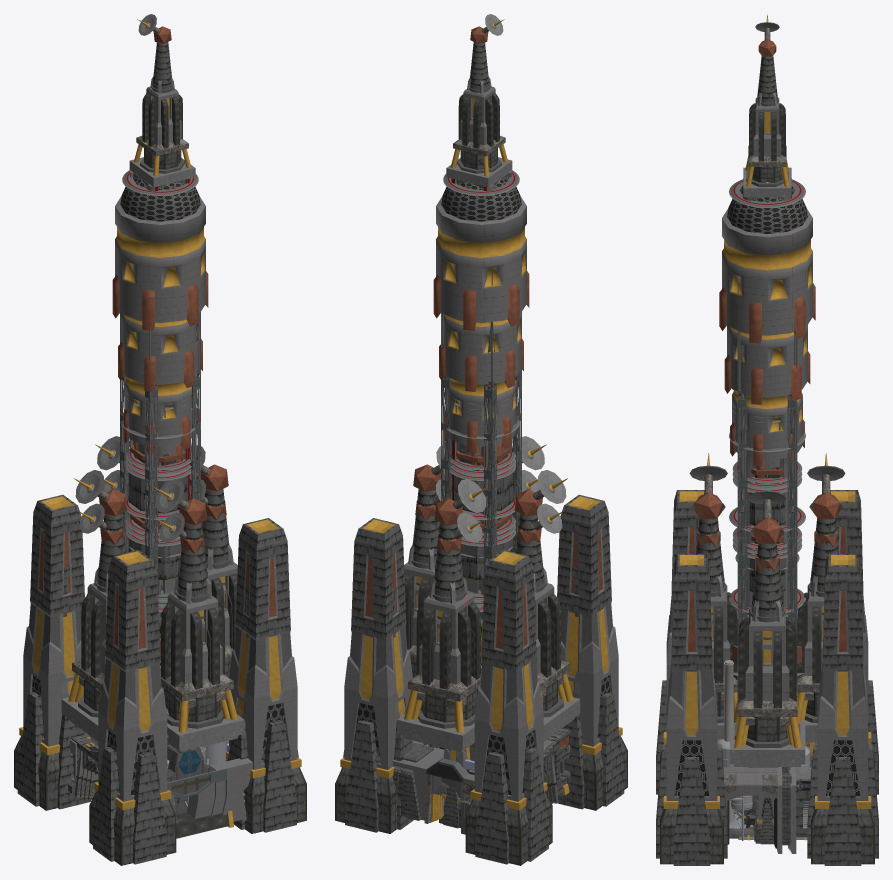
Rendered from kit.glb.
3 views of the same model, side by side, from view 1: azimuth 30°, elevation 25°; view 2: azimuth 150°, elevation 25°; view 3: azimuth 270°, elevation 25° (orthographic).
Visible parts, largest first — view 1: pylon.56, pylon.57, pylon.55, tower.73, tower_dome.74, fortress.53, tower.72, tower.131, tower_dome.51, tower.70, tower_dome.29, tower.50 (+13 smaller); view 2: pylon.55, pylon.54, pylon.56, tower.71, tower_dome.74, tower.72, tower.131, fortress.53, tower_dome.51, tower.70, tower_dome.29, tower.48 (+14 smaller); view 3: pylon.54, pylon.57, tower.70, tower_dome.74, tower.71, tower.131, tower_dome.51, tower.73, fortress.53, tower_dome.29, pylon.55, pylon.56 (+14 smaller).
Boxes of the visible parts, x1,y1,x2,y2 form: pylon.56: (89,549,176,865); pylon.57: (226,518,306,833); pylon.55: (14,494,94,810); tower.73: (154,479,244,749); tower_dome.74: (112,177,208,330); fortress.53: (68,708,264,838); tower.72: (61,470,127,739); tower.131: (129,14,195,187); tower_dome.51: (118,312,202,391); tower.70: (196,445,237,677); tower_dome.29: (123,377,197,452); tower.50: (158,512,238,751); pylon.55: (465,549,552,865); pylon.54: (335,518,413,833); pylon.56: (557,494,627,810); tower.71: (397,479,487,749); tower_dome.74: (433,177,529,330); tower.72: (514,470,580,739); tower.131: (446,14,512,187); fortress.53: (375,728,570,834); tower_dome.51: (439,312,523,391); tower.70: (404,446,444,677); tower_dome.29: (444,378,518,452); tower.48: (403,512,483,752); pylon.54: (807,554,878,865); pylon.57: (656,554,727,865); tower.70: (729,490,805,764); tower_dome.74: (719,185,815,343); tower.71: (796,453,845,739); tower.131: (743,14,791,197); tower_dome.51: (724,325,810,404); tower.73: (689,453,738,739); fortress.53: (723,744,811,853); tower_dome.29: (730,390,804,466); pylon.55: (830,490,878,794); pylon.56: (656,490,704,794).
Size of the model in its own units: 20.84 by 81.97 by 20.84.
Materials: 18 (16 with a texture image).
